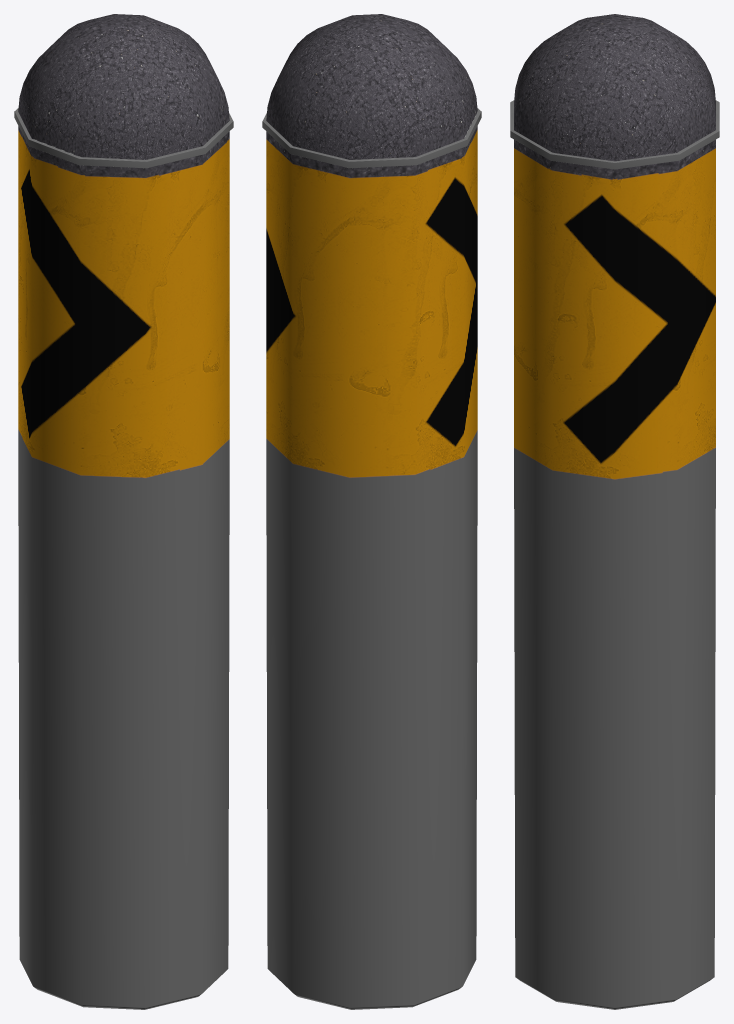
File: busPoleLOW.fbx
3 renders of one model, left to right at view 1: azimuth 30°, elevation 25°; view 2: azimuth 150°, elevation 25°; view 3: azimuth 270°, elevation 25°, orthographic.
Parts seen in each view (by area): view 1: busPoleLOW; view 2: busPoleLOW; view 3: busPoleLOW.
Boxes of the visible parts, bbox=[...] form: busPoleLOW: bbox=[14, 14, 233, 1009]; busPoleLOW: bbox=[262, 14, 481, 1009]; busPoleLOW: bbox=[510, 14, 719, 1009].
Bounding box in the file's own units: 0.2432 × 1.15 × 0.2313.
